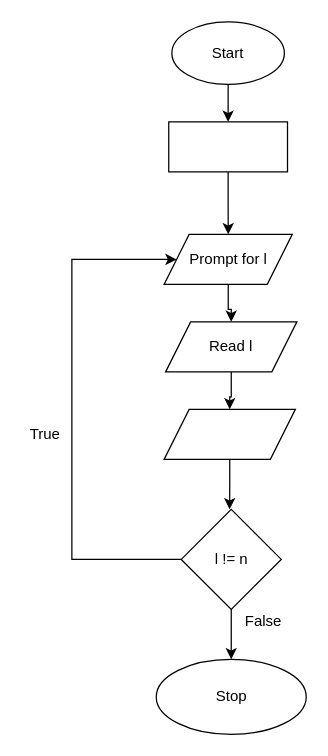
This 328x756 diagram has some shape labels left out. The shapes that lost their labels are listed below. From the top down, each one's centre as x and y in pixels, then its label:
the point at 228,146: Declare l as string
the point at 229,433: Print l
